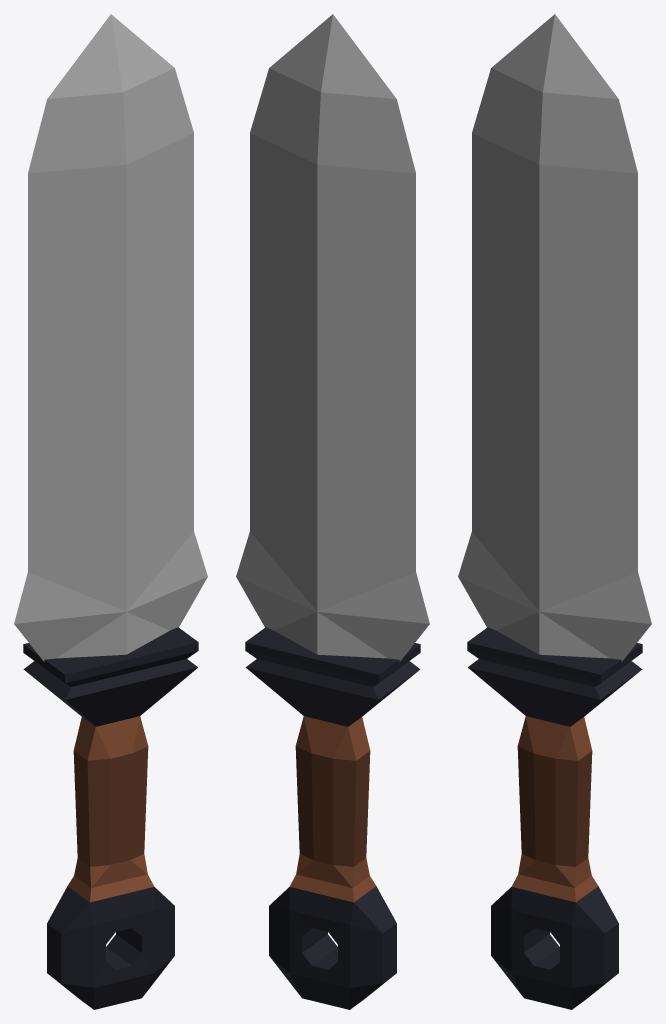
Rendered from dagger.dae.
3 views of the same model, side by side, from view 1: azimuth 30°, elevation 25°; view 2: azimuth 150°, elevation 25°; view 3: azimuth 330°, elevation 25° (orthographic).
Visible parts, largest first — view 1: dagger; view 2: dagger; view 3: dagger.
Part boxes in pixels (x1,y1,x2,y2): dagger: (14,14,207,1009); dagger: (236,14,429,1009); dagger: (458,14,651,1009).
Size of the model in its own units: 0.7804 by 0.2918 by 3.79.
